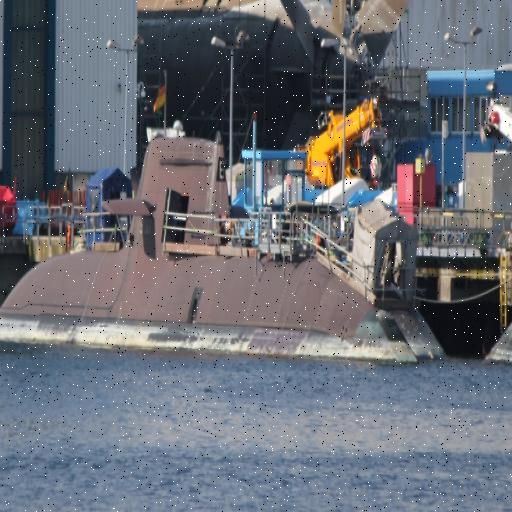submarine: (1, 139, 512, 363)
